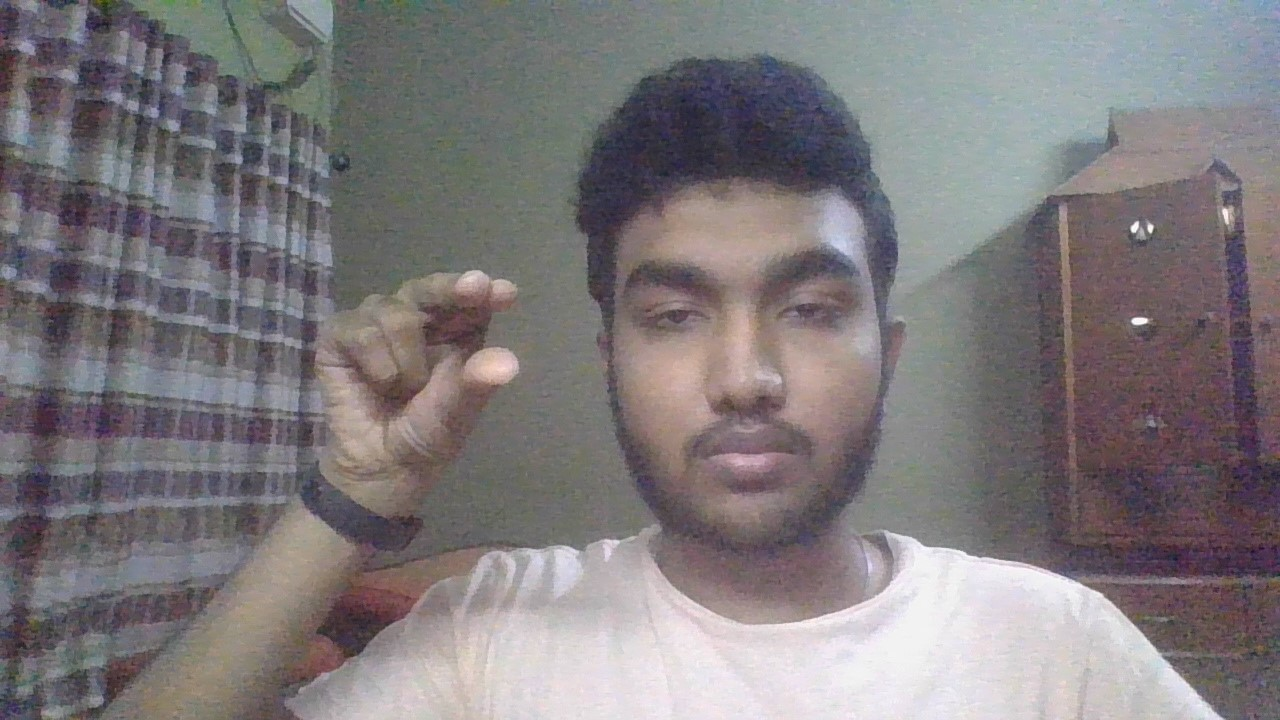No: (286, 268, 536, 533)
